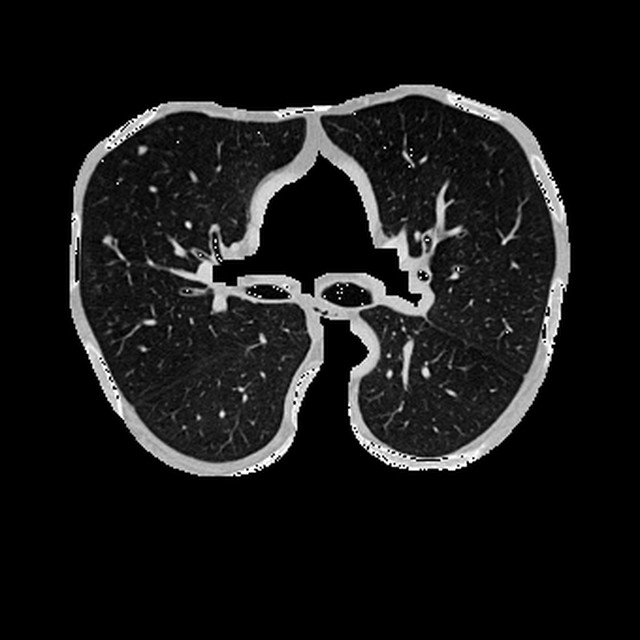PN: (104, 235, 111, 243)
